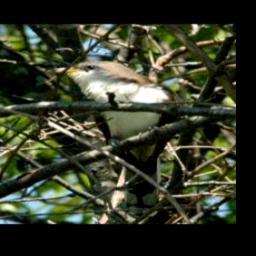Cuckoo: (43, 60, 185, 215)
